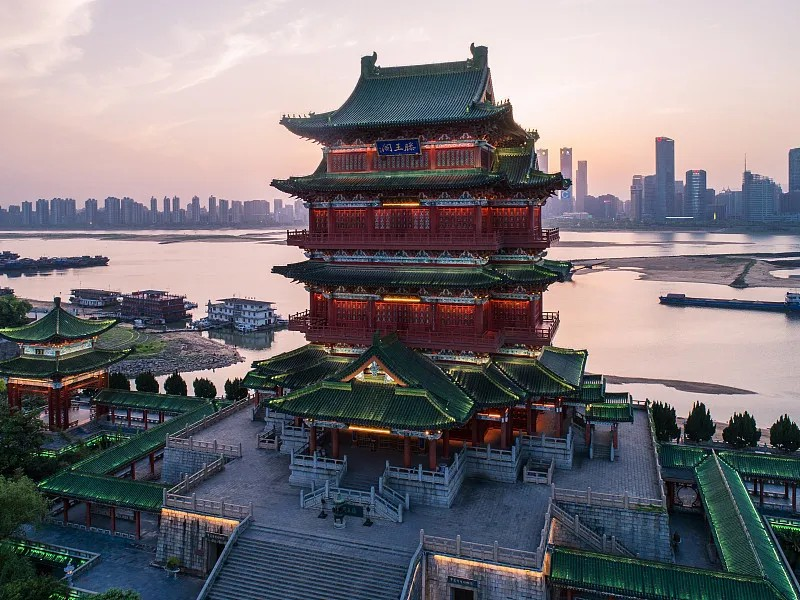Teng: (244, 44, 634, 469)
